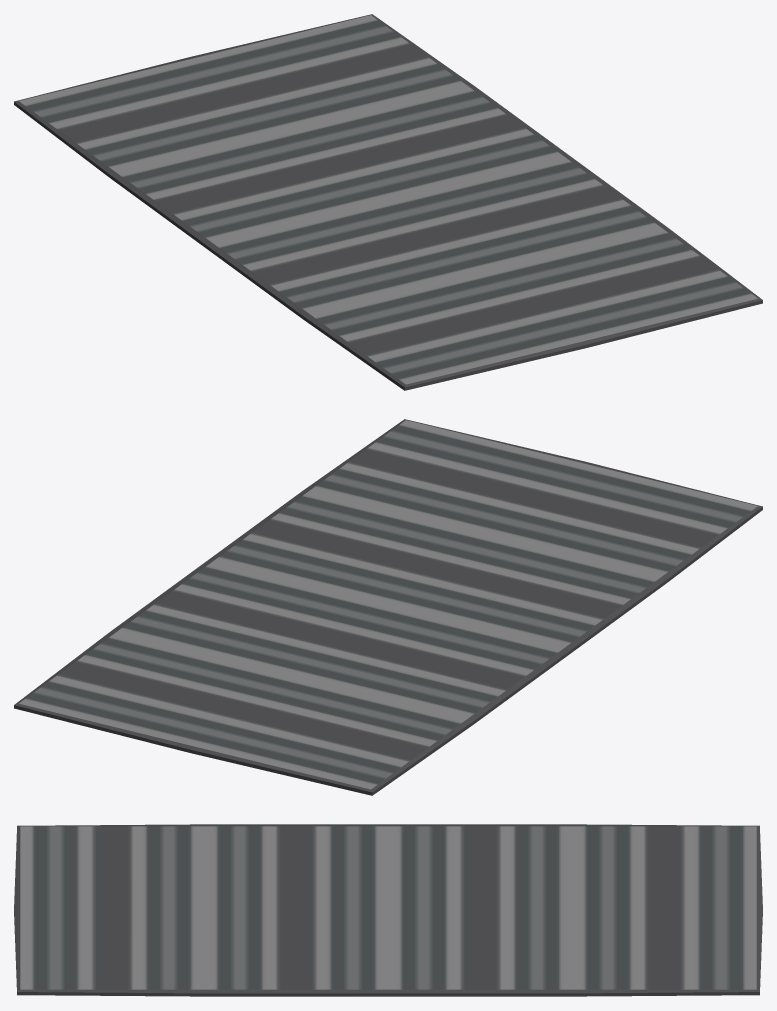
The model's file is SM_Prop_Rug_02.obj.
3 views of the same model, one above another, from view 1: azimuth 30°, elevation 25°; view 2: azimuth 150°, elevation 25°; view 3: azimuth 270°, elevation 25° (orthographic). The views are drawn at different scales.
Visible parts, largest first — view 1: SM_Prop_Rug_02_0; view 2: SM_Prop_Rug_02_0; view 3: SM_Prop_Rug_02_0.
Boxes of the visible parts, bbox=[...] form: SM_Prop_Rug_02_0: bbox=[14, 14, 762, 390]; SM_Prop_Rug_02_0: bbox=[14, 419, 762, 795]; SM_Prop_Rug_02_0: bbox=[14, 824, 762, 996].
Size of the model in its own units: 1.97 by 0.0225 by 3.69.
1 material, 1 textured.
